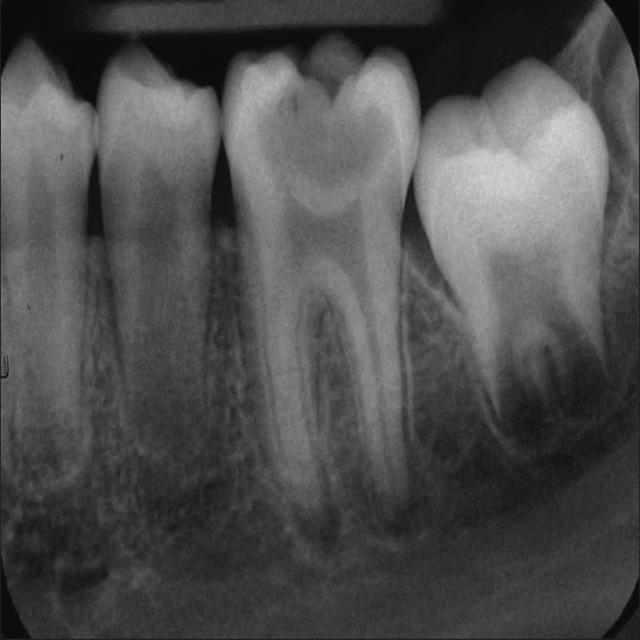Caries: (220, 39, 422, 506)
